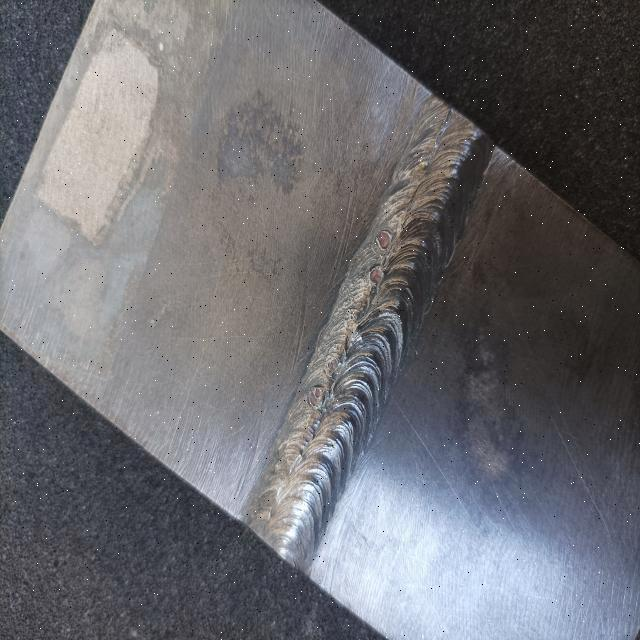Porosity: (372, 228, 394, 253), (365, 264, 385, 288), (307, 384, 324, 410), (325, 353, 342, 377), (343, 307, 358, 326)
